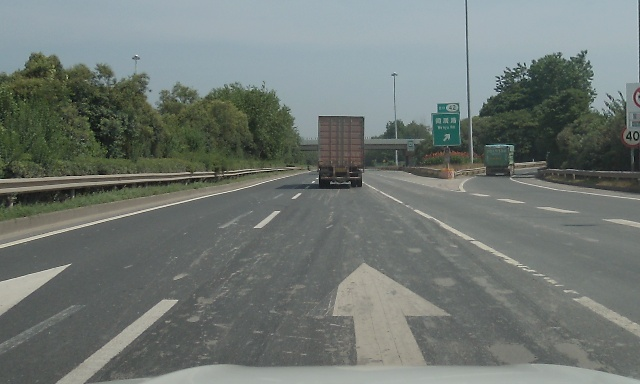truck: (317, 116, 364, 189), (484, 145, 515, 177)
